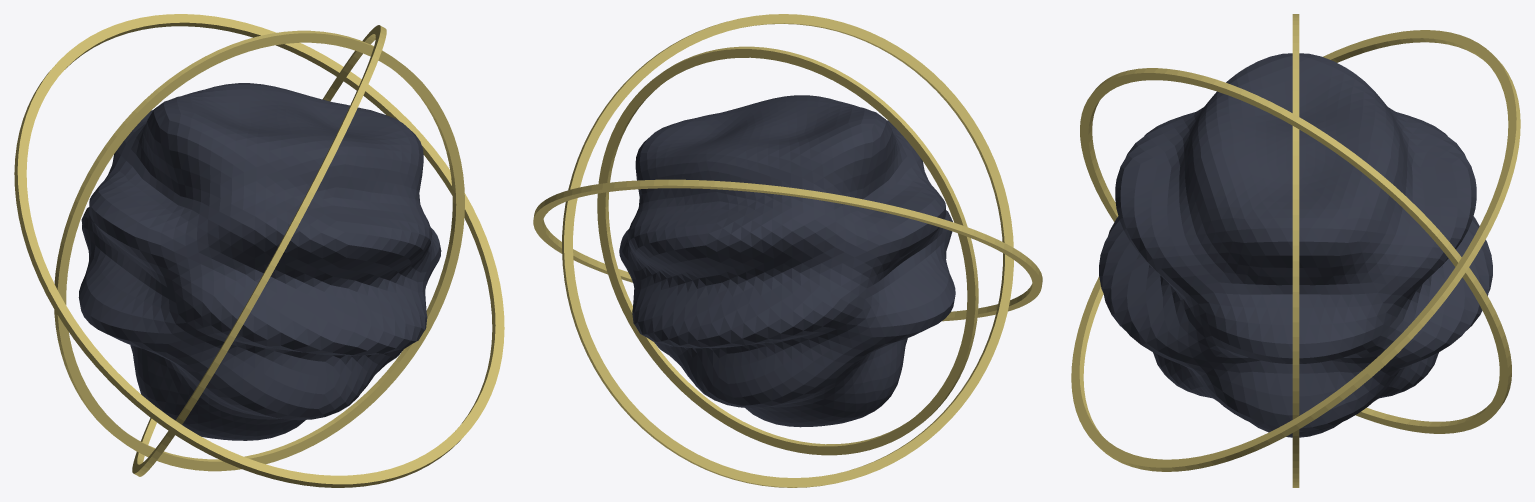
Rendered from gpu-artifact.glb.
3 views of the same model, side by side, from view 1: azimuth 30°, elevation 25°; view 2: azimuth 150°, elevation 25°; view 3: azimuth 270°, elevation 25° (orthographic). The views are drawn at different scales.
Visible parts, largest first — view 1: subsweep-lead-scanner_obsidian_core, subsweep-lead-scanner_orbital_ring_2, subsweep-lead-scanner_orbital_ring_0, subsweep-lead-scanner_orbital_ring_1; view 2: subsweep-lead-scanner_obsidian_core, subsweep-lead-scanner_orbital_ring_1, subsweep-lead-scanner_orbital_ring_0, subsweep-lead-scanner_orbital_ring_2; view 3: subsweep-lead-scanner_obsidian_core, subsweep-lead-scanner_orbital_ring_2, subsweep-lead-scanner_orbital_ring_1, subsweep-lead-scanner_orbital_ring_0.
Part boxes in pixels (left/top/right/bottom): subsweep-lead-scanner_obsidian_core: left=78, top=83, right=441, bottom=440; subsweep-lead-scanner_orbital_ring_2: left=14, top=14, right=504, bottom=487; subsweep-lead-scanner_orbital_ring_0: left=54, top=30, right=464, bottom=471; subsweep-lead-scanner_orbital_ring_1: left=132, top=25, right=386, bottom=476; subsweep-lead-scanner_obsidian_core: left=619, top=95, right=955, bottom=427; subsweep-lead-scanner_orbital_ring_1: left=562, top=14, right=1013, bottom=487; subsweep-lead-scanner_orbital_ring_0: left=597, top=46, right=978, bottom=455; subsweep-lead-scanner_orbital_ring_2: left=533, top=179, right=1042, bottom=321; subsweep-lead-scanner_obsidian_core: left=1099, top=53, right=1492, bottom=437; subsweep-lead-scanner_orbital_ring_2: left=1071, top=30, right=1520, bottom=471; subsweep-lead-scanner_orbital_ring_1: left=1080, top=68, right=1511, bottom=433; subsweep-lead-scanner_orbital_ring_0: left=1292, top=14, right=1299, bottom=487.
Size of the model in its own units: 3.18 by 2.76 by 2.62.
